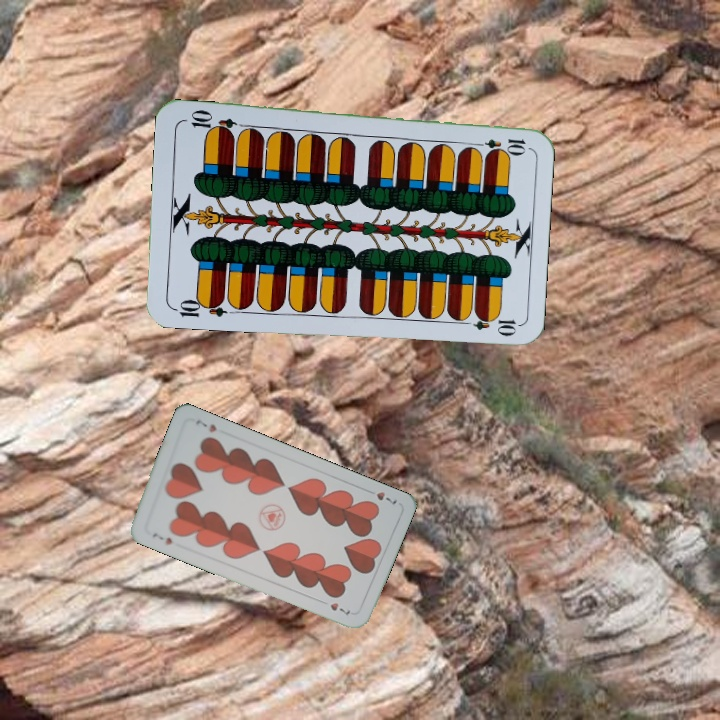E10: (169, 294, 228, 320), (469, 134, 528, 154)
H7: (362, 485, 400, 508), (148, 529, 175, 548)
